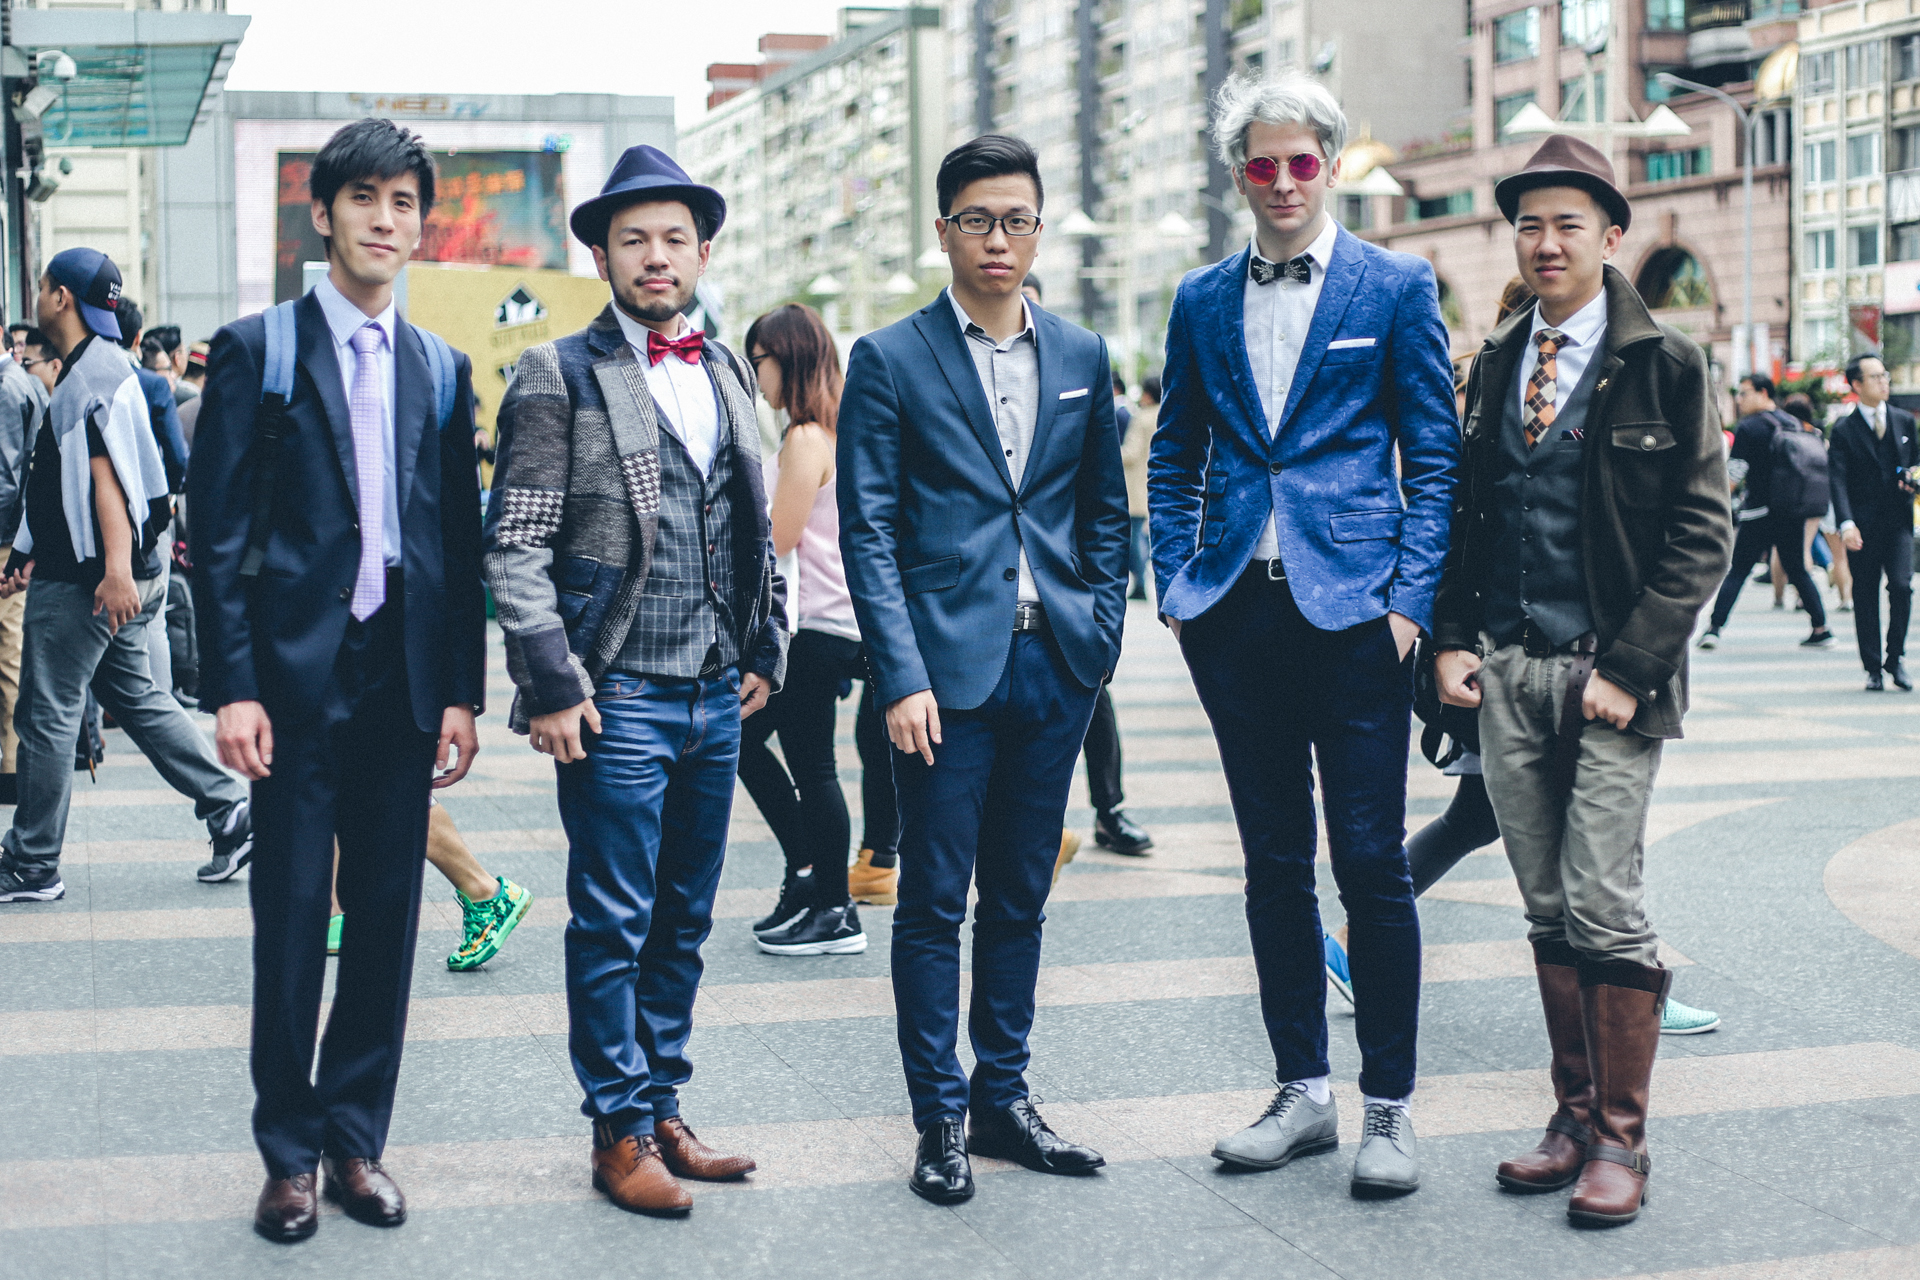feet: (4, 781, 289, 916), (1201, 1047, 1434, 1206), (291, 854, 549, 981), (1484, 1071, 1673, 1244), (889, 1063, 1111, 1201), (570, 1073, 767, 1229), (234, 1113, 413, 1250), (751, 837, 879, 979), (1033, 786, 1166, 876), (840, 811, 927, 914), (1699, 606, 1841, 659), (1847, 649, 1914, 709)
